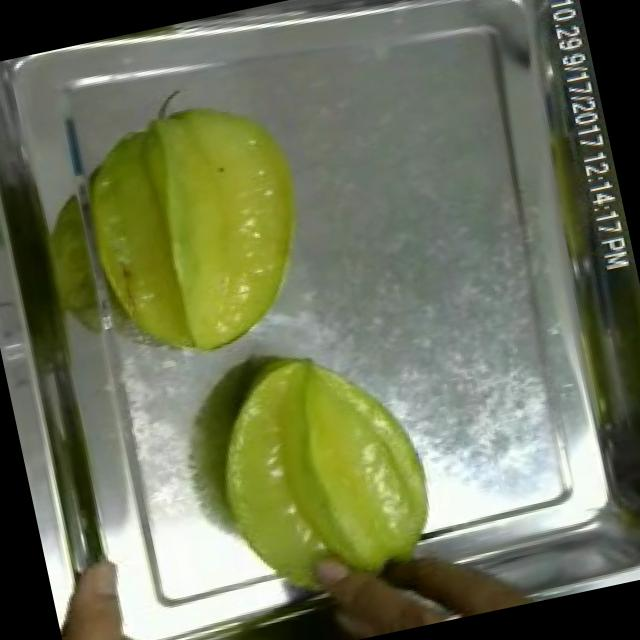fruit: (49, 70, 340, 384), (180, 322, 454, 624)
